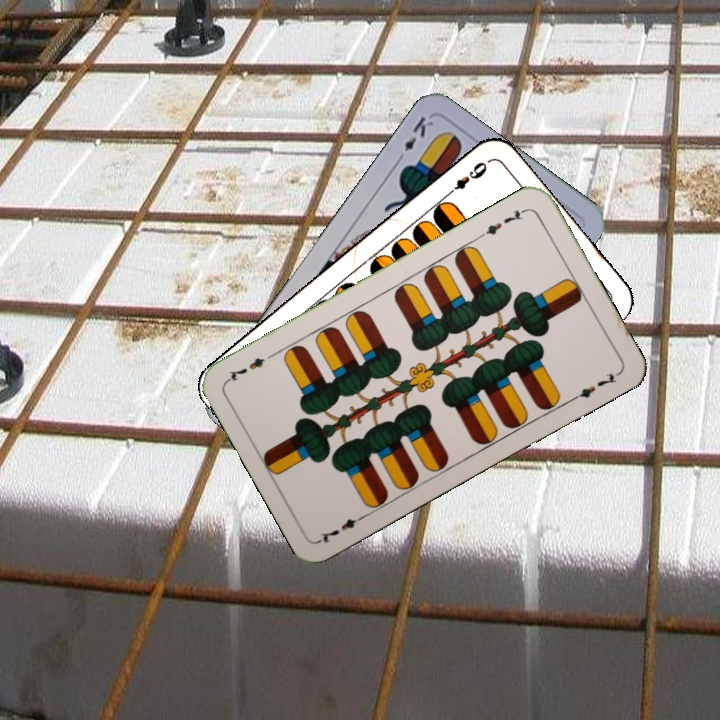E7: (315, 510, 370, 546), (476, 204, 530, 240)
E9: (442, 157, 490, 199)
EK: (392, 112, 436, 165)
